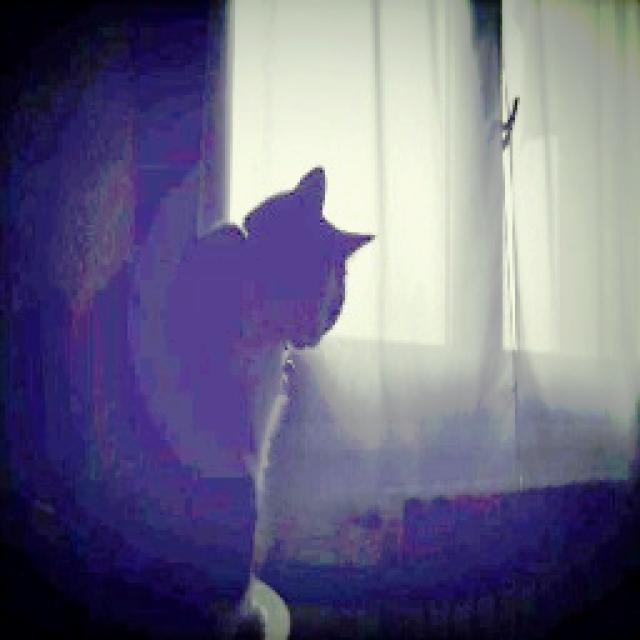cat: (42, 146, 382, 640)
